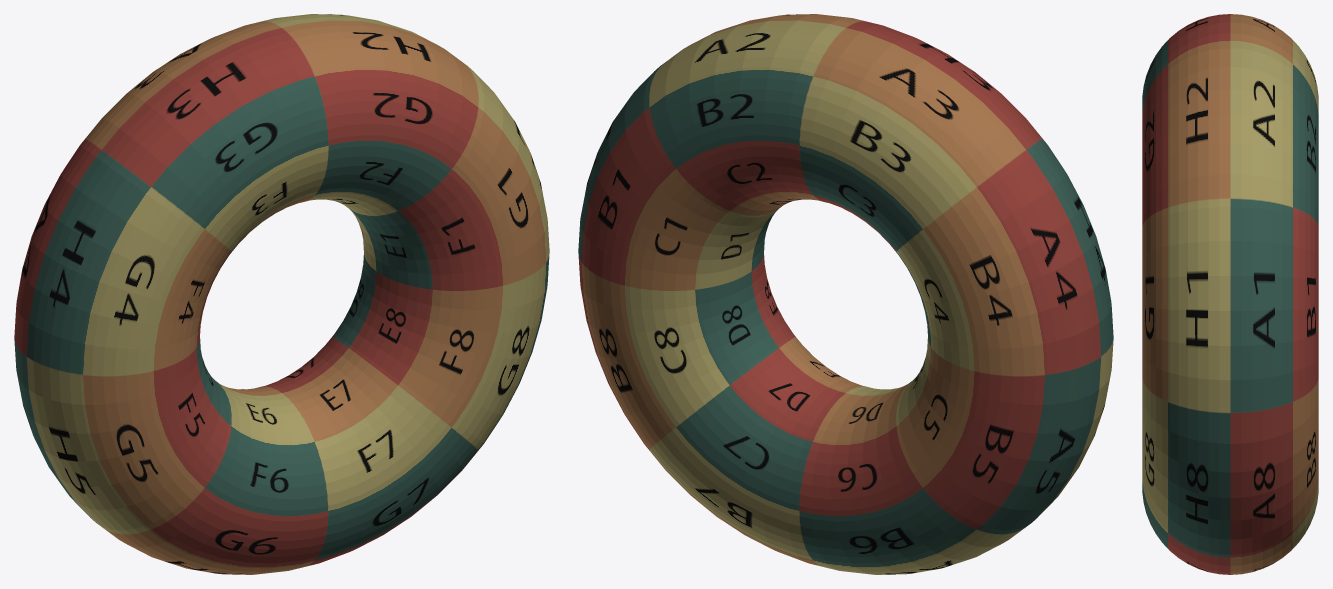
Rendered from texture_torus_R15_r27.glb.
3 views of the same model, side by side, from view 1: azimuth 30°, elevation 25°; view 2: azimuth 150°, elevation 25°; view 3: azimuth 270°, elevation 25° (orthographic). The views are drawn at different scales.
Visible parts, largest first — view 1: world; view 2: world; view 3: world.
Boxes of the visible parts, x1=… form: world: x1=14, y1=14, x2=549, y2=574; world: x1=578, y1=14, x2=1113, y2=574; world: x1=1142, y1=14, x2=1318, y2=574.
Size of the model in its own units: 29.2 by 29.14 by 9.18.
1 material, 1 textured.
